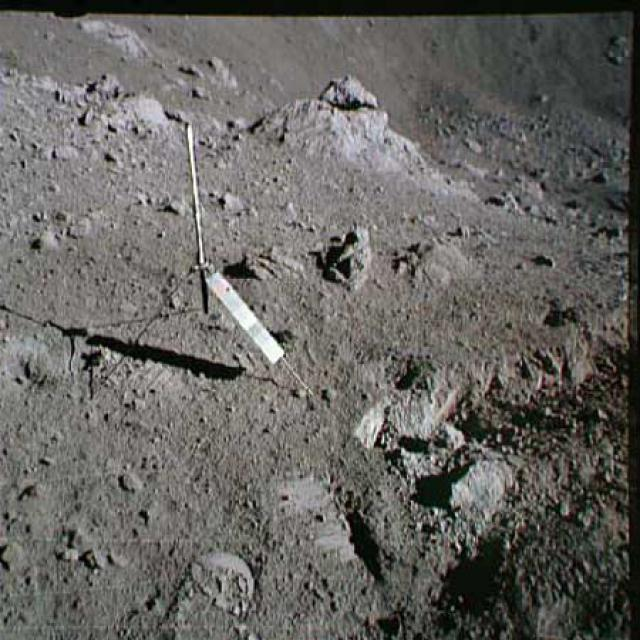artifact: (73, 118, 318, 408)
rock: (245, 88, 468, 200), (64, 75, 174, 147), (435, 440, 523, 525), (390, 233, 473, 298), (75, 13, 159, 75), (315, 211, 379, 286), (313, 71, 381, 106)
